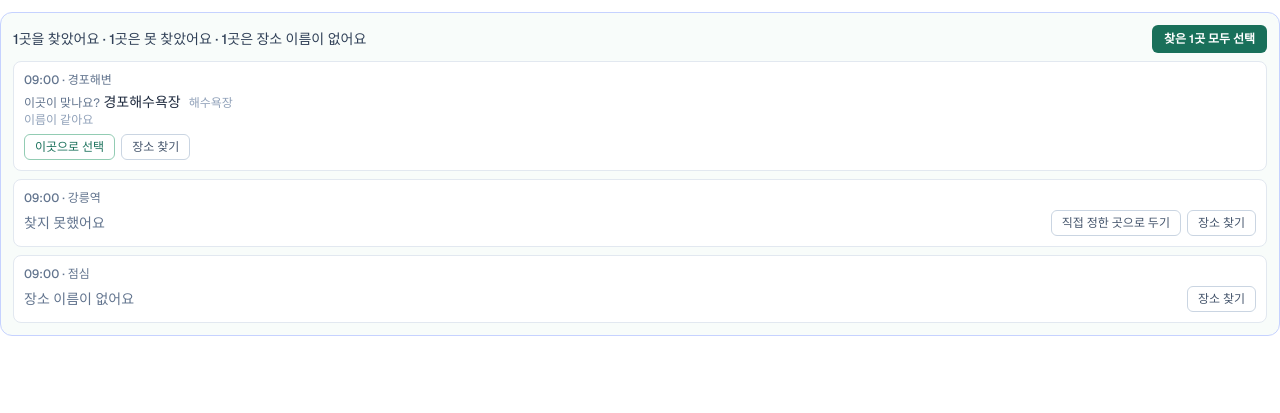
Test case: 기획 에이전트 카드 — 편집기 줄에서 숨긴 버튼을 카드에 둔다 (UI-S2-034 · UI-S2-044) › 🔴 이름이 없다고 본 줄의 [장소 찾기]는 그 문구로 검색하지 않고 빈 칸 · 안내로 연다 (UI-S2-045)
Click the 3rd button "장소 찾기". click: click(1221, 299)
box: [1187,286,1256,312]
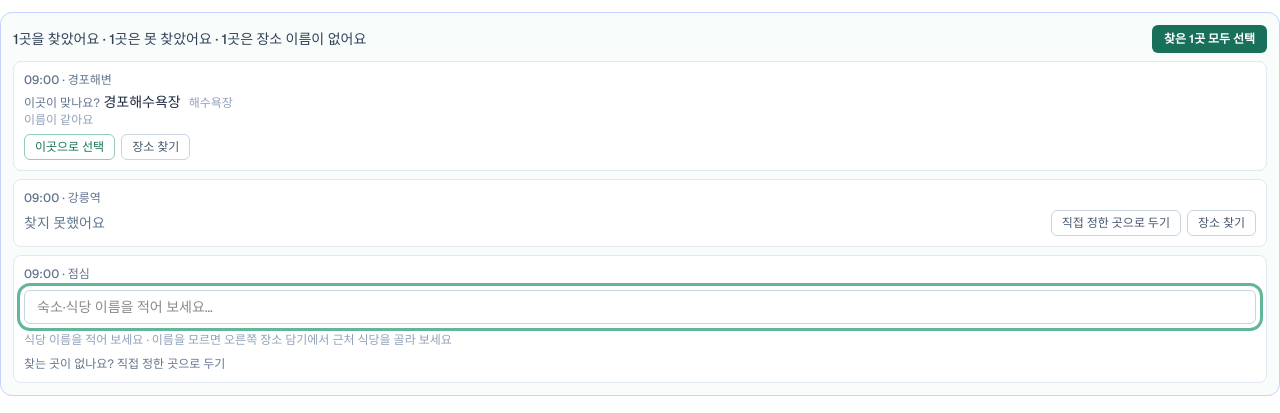
Expected: the field with placeholder "숙소·식당 이름을 적어 보세요…" is empty, [24,290,1256,324]
Expected: the text "식당 이름을 적어 보세요 · 이름을 모르면 오른쪽 장소 담기에서 근처 식당을 골라 보세요" is shown, [24,332,452,348]
